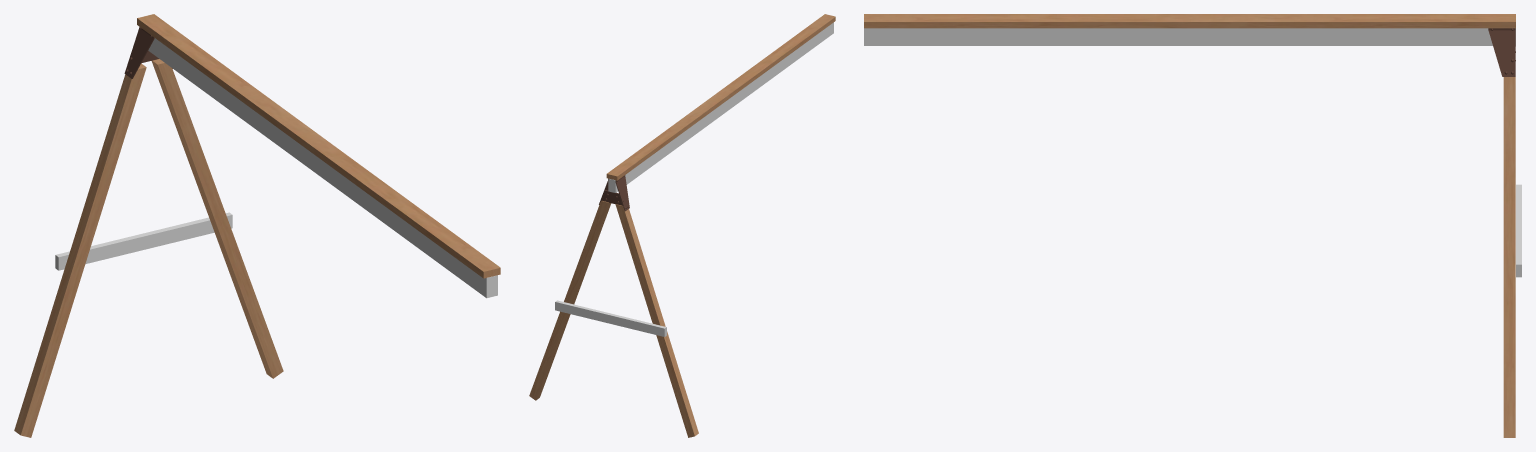
Rendered from P-AB-4-10.2022fbc1.glb.
3 views of the same model, side by side, from view 1: azimuth 30°, elevation 25°; view 2: azimuth 150°, elevation 25°; view 3: azimuth 270°, elevation 25° (orthographic). The views are drawn at different scales.
Visible parts, largest first — view 1: Plane002, Plane002_1,_colorize_, Plane002_2; view 2: Plane002, Plane002_1,_colorize_, Plane002_2; view 3: Plane002, Plane002_1,_colorize_, Plane002_2.
Part boxes in pixels (x1,y1,x2,y2): Plane002: [14, 14, 500, 437]; Plane002_1,_colorize_: [55, 38, 497, 298]; Plane002_2: [124, 27, 172, 78]; Plane002: [529, 14, 835, 437]; Plane002_1,_colorize_: [555, 22, 833, 336]; Plane002_2: [599, 175, 629, 211]; Plane002: [864, 14, 1515, 437]; Plane002_1,_colorize_: [864, 28, 1521, 277]; Plane002_2: [1488, 28, 1515, 76].
Size of the model in its own units: 2.36 by 3.33 by 5.45.
3 materials, 1 textured.
